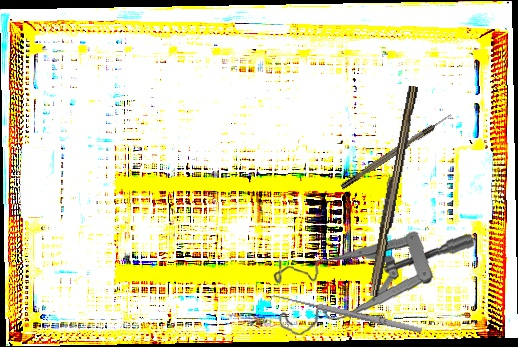Hook Surgical: (339, 112, 454, 190), (269, 290, 423, 341)
Scalpel Handle: (365, 84, 419, 298)
Speculum: (269, 219, 476, 347)
